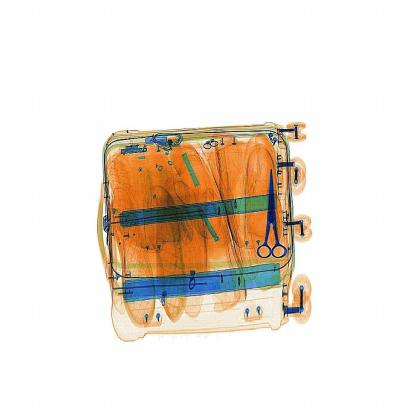gun: (251, 164, 297, 262)
